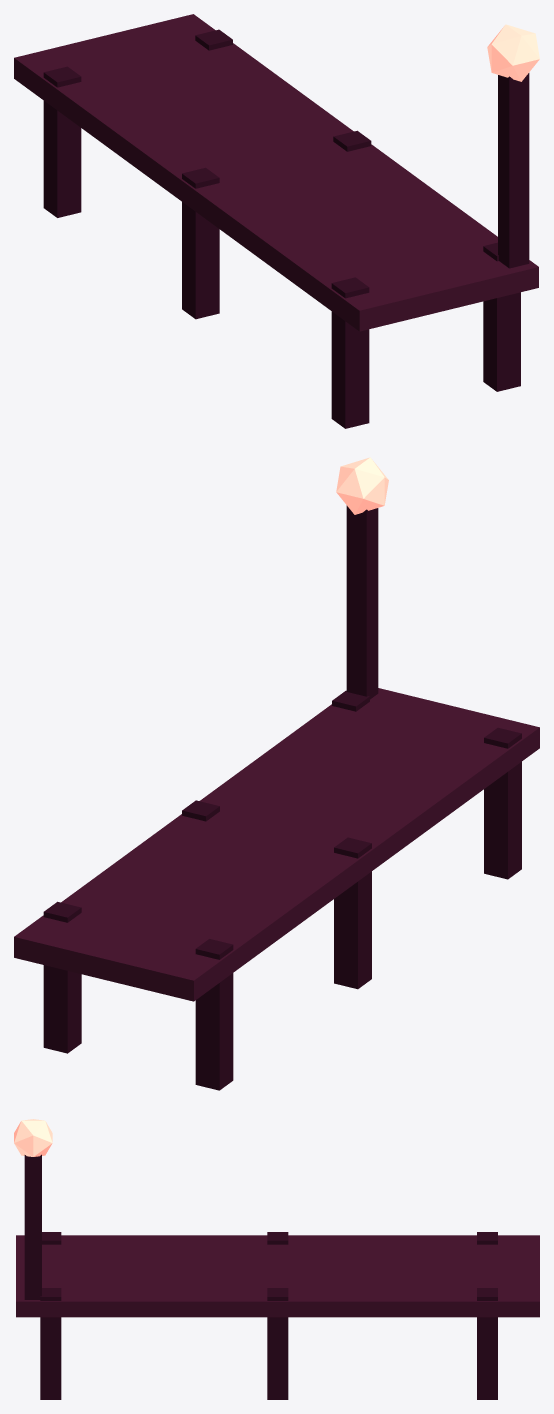
The model's file is jetty.glb.
The picture shows the model from 3 angles, top to bottom: view 1: azimuth 30°, elevation 25°; view 2: azimuth 150°, elevation 25°; view 3: azimuth 270°, elevation 25°; orthographic projection. The views are drawn at different scales.
Parts seen in each view (by area): view 1: Deck, LampPost, P20, P00, P10, P22, Lamp, P12, P02; view 2: Deck, LampPost, P00, P10, P20, P02, Lamp; view 3: Deck, LampPost, P12, P22, P02, Lamp.
Boxes of the visible parts, x1=… form: Deck: x1=14, y1=14, x2=538, y2=331; LampPost: x1=498, y1=73, x2=529, y2=268; P20: x1=331, y1=277, x2=369, y2=428; P00: x1=43, y1=66, x2=81, y2=217; P10: x1=182, y1=167, x2=219, y2=319; P22: x1=483, y1=242, x2=520, y2=391; Lamp: x1=487, y1=24, x2=539, y2=81; P12: x1=333, y1=130, x2=371, y2=151; P02: x1=195, y1=29, x2=232, y2=50; Deck: x1=14, y1=688, x2=539, y2=1001; LampPost: x1=346, y1=505, x2=378, y2=699; P00: x1=195, y1=939, x2=233, y2=1090; P10: x1=334, y1=837, x2=371, y2=989; P20: x1=484, y1=727, x2=521, y2=879; P02: x1=43, y1=901, x2=81, y2=1053; Lamp: x1=336, y1=457, x2=388, y2=514; Deck: x1=16, y1=1235, x2=539, y2=1317; LampPost: x1=24, y1=1154, x2=41, y2=1299; P12: x1=267, y1=1288, x2=288, y2=1399; P22: x1=40, y1=1288, x2=61, y2=1399; P02: x1=477, y1=1288, x2=497, y2=1399; Lamp: x1=14, y1=1119, x2=52, y2=1156.
Bounding box in the file's own units: 0.9406 × 1.74 × 3.01.
